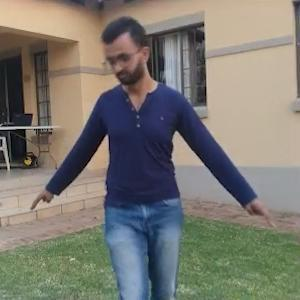land: (80, 58, 197, 260)
